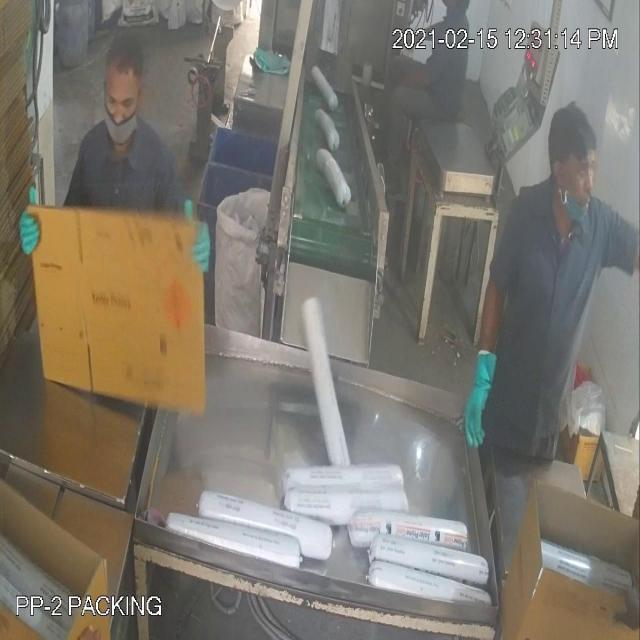Gloves: (452, 331, 502, 470)
